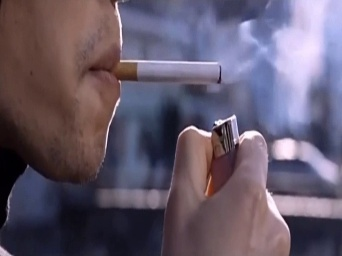smoke: (115, 62, 223, 86)
